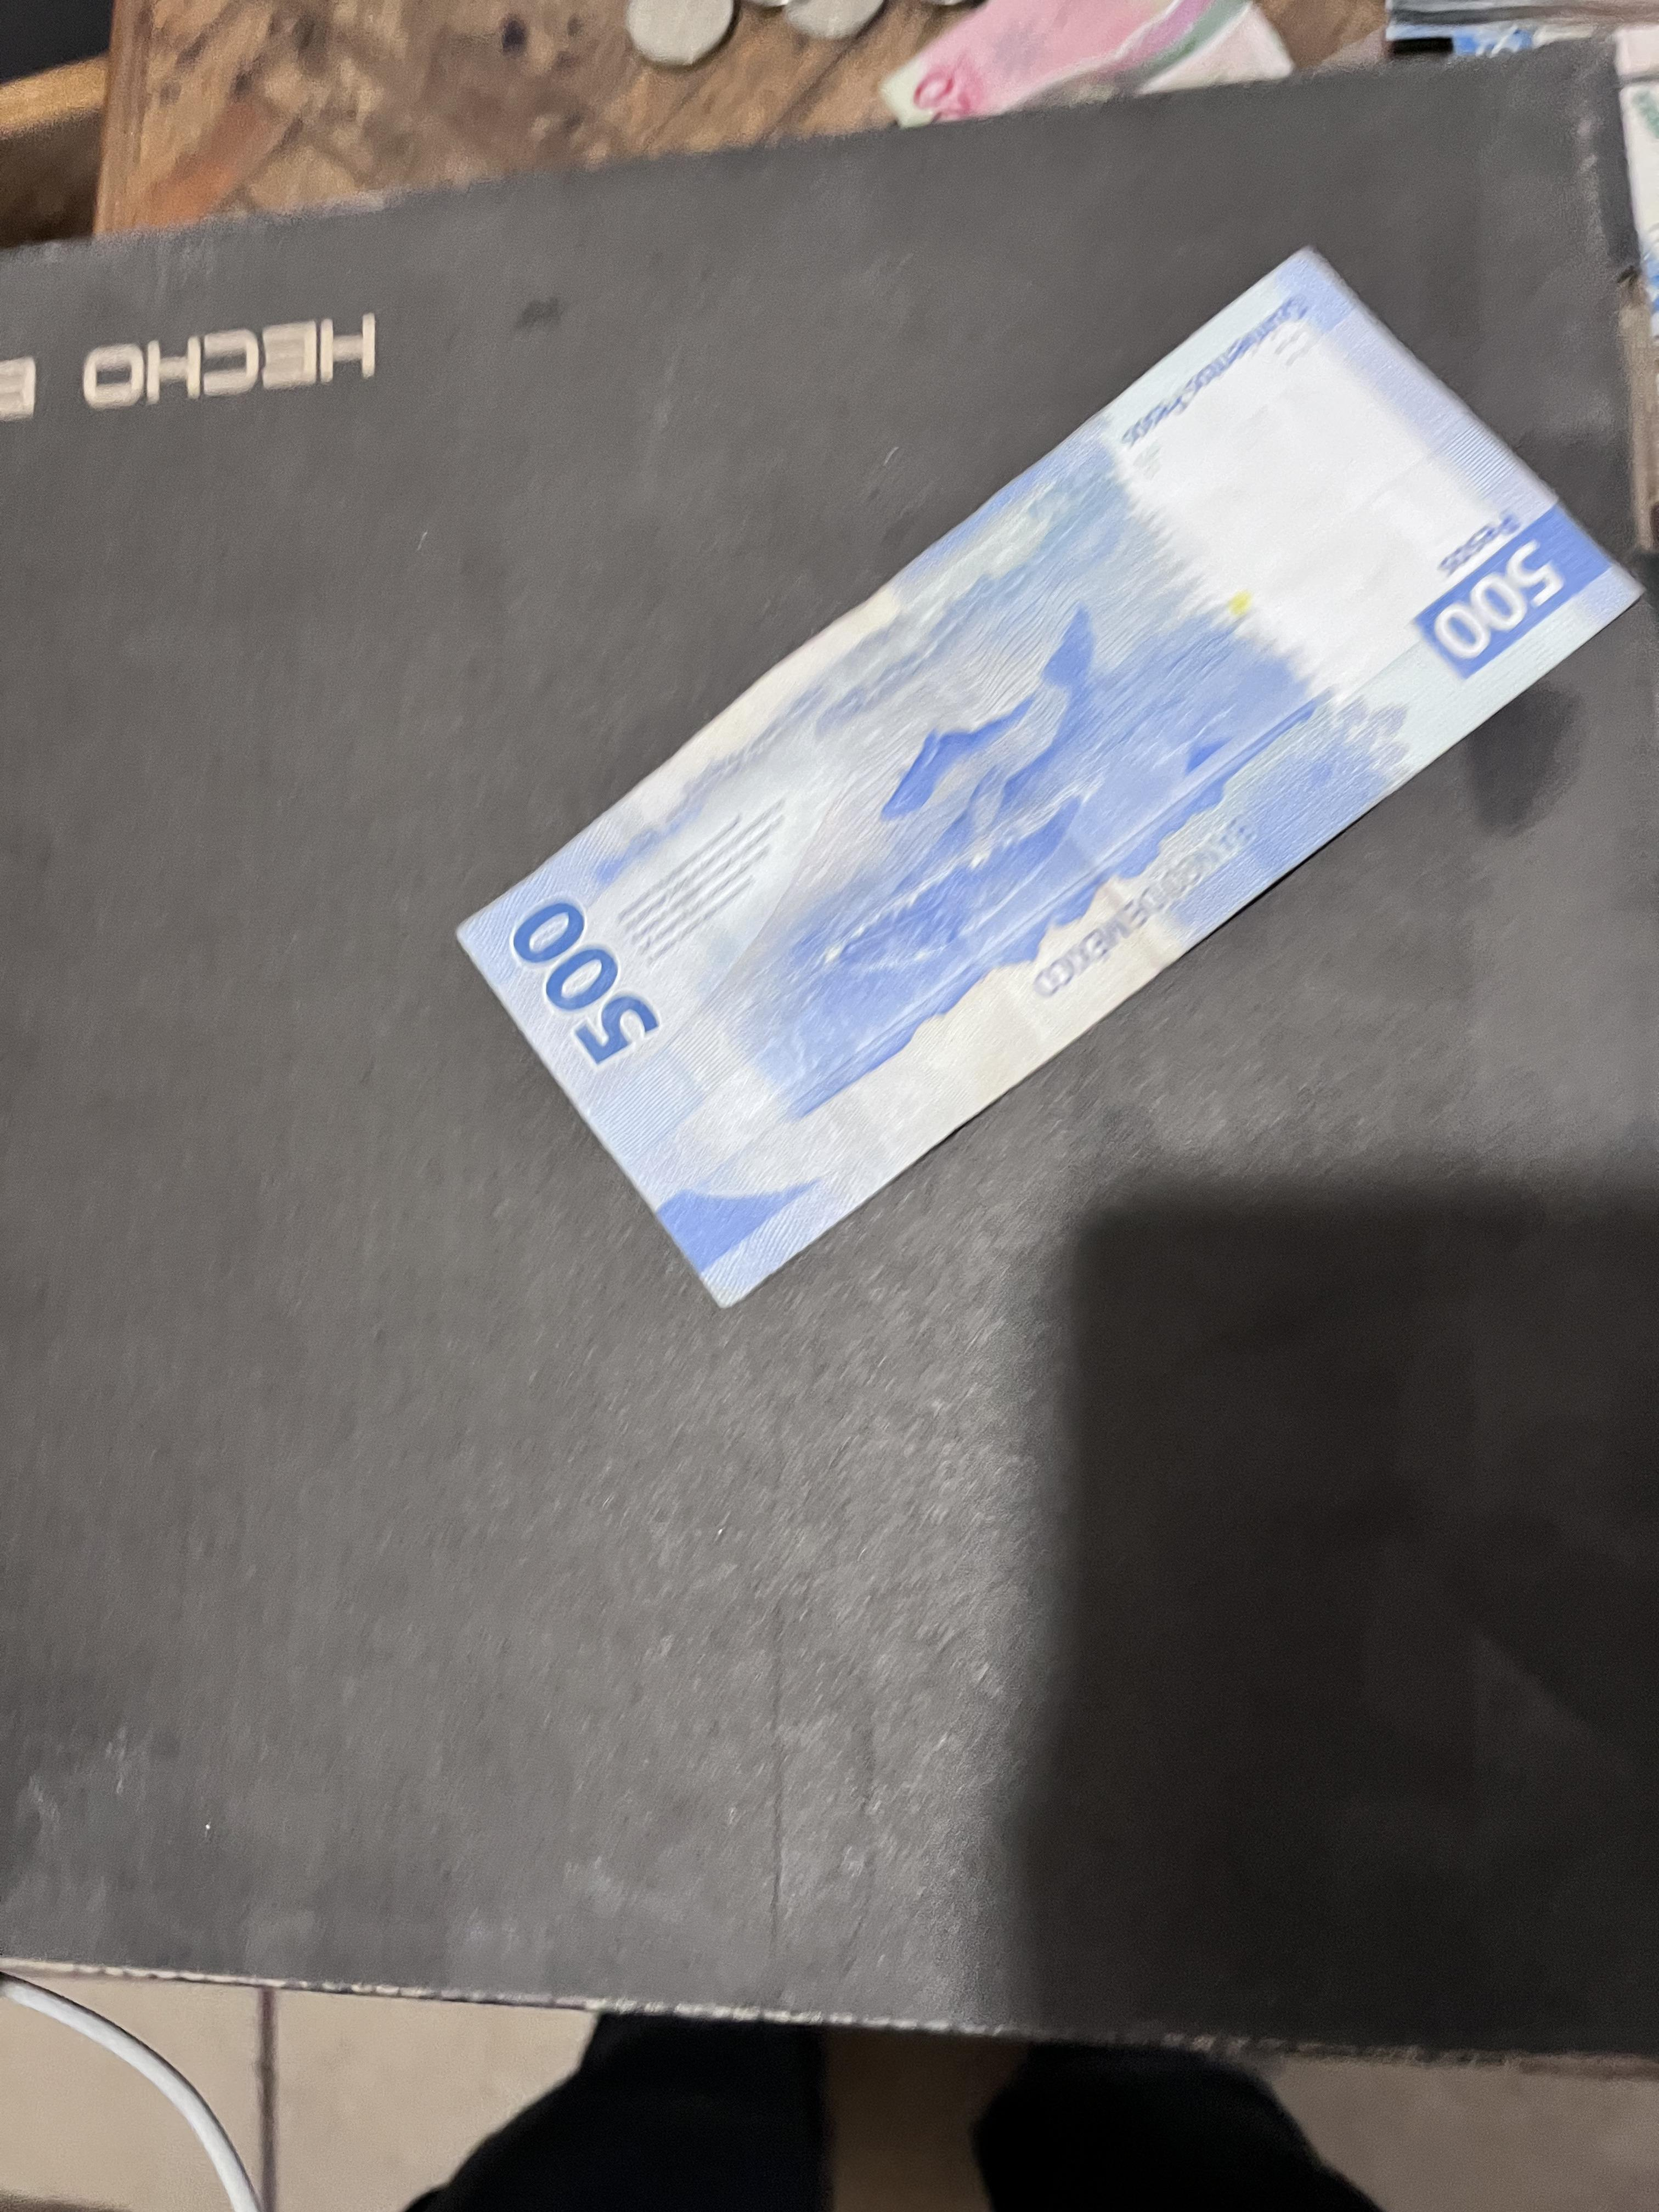500 nuevo: (274, 214, 1659, 1379)
